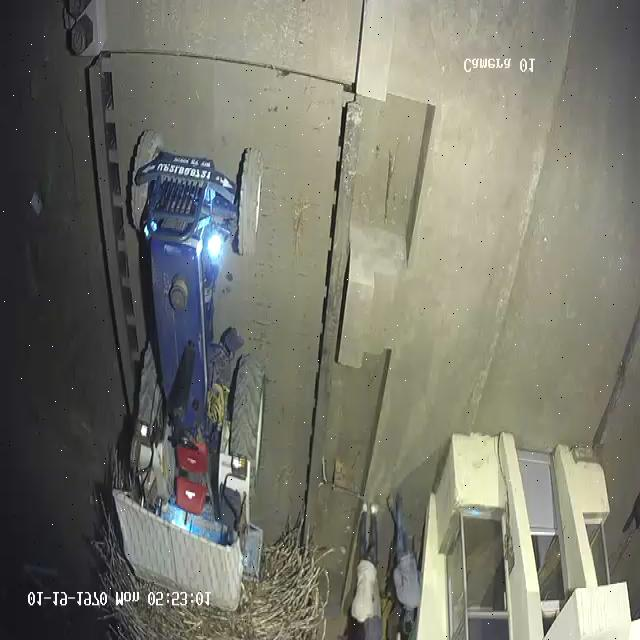Tratores - v5 YOLO V8L 2024-11-13: (119, 124, 277, 578)
